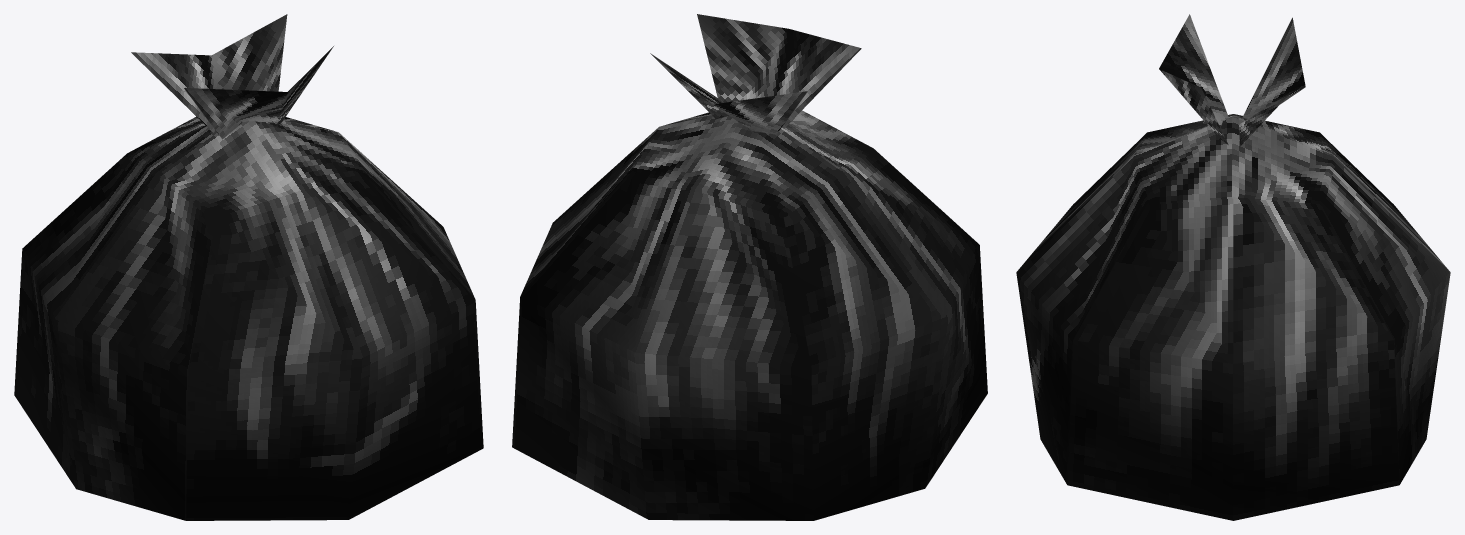
The model's file is trashbag_b.glb.
3 views of the same model, side by side, from view 1: azimuth 30°, elevation 25°; view 2: azimuth 150°, elevation 25°; view 3: azimuth 270°, elevation 25° (orthographic). The views are drawn at different scales.
Parts seen in each view (by area): view 1: Cube.002, Plane.002; view 2: Cube.002, Plane.002; view 3: Cube.002, Plane.002.
Boxes of the visible parts, <box> form: Cube.002: <box>14,116,483,520</box>; Plane.002: <box>131,14,333,139</box>; Cube.002: <box>512,110,987,520</box>; Plane.002: <box>650,14,861,134</box>; Cube.002: <box>1016,114,1450,520</box>; Plane.002: <box>1159,14,1305,145</box>.
Size of the model in its own units: 0.5054 by 0.55 by 0.5054.
Materials: 1 (1 with a texture image).
